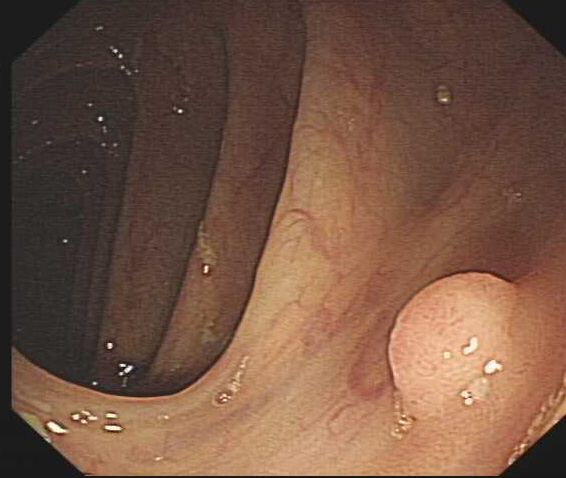others: (382, 268, 521, 422)
